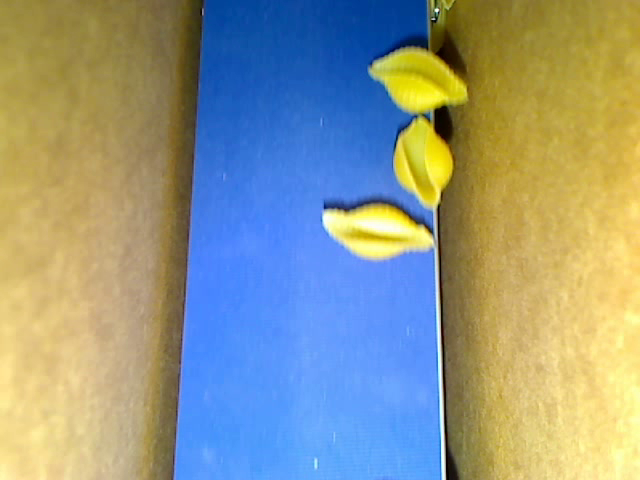penne: (429, 1, 448, 56), (439, 1, 458, 13)
shell: (317, 201, 434, 265), (367, 47, 469, 114), (388, 113, 454, 213)
